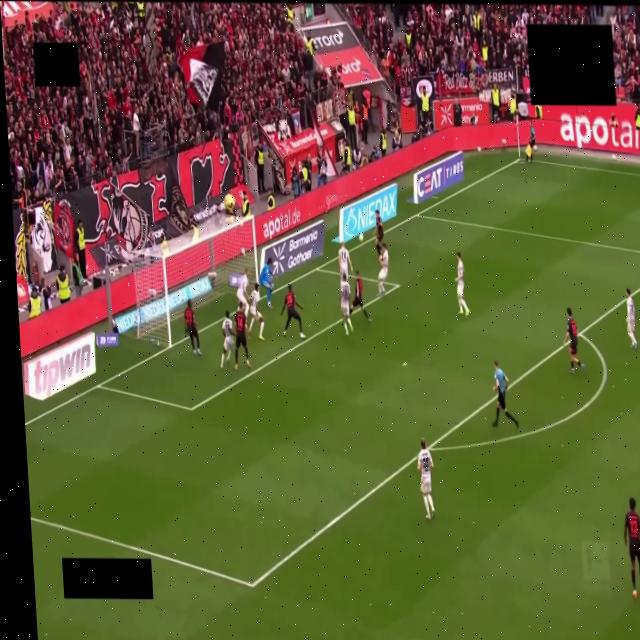ball: (359, 234, 363, 242)
player: (624, 497, 639, 597), (563, 308, 585, 372), (417, 439, 434, 519), (281, 284, 305, 338), (350, 271, 370, 322), (235, 303, 250, 370), (455, 252, 469, 315), (184, 300, 200, 355), (258, 258, 275, 309), (249, 284, 264, 340), (340, 272, 352, 334), (221, 312, 234, 368), (626, 289, 637, 350), (237, 270, 249, 316), (378, 243, 388, 296), (338, 242, 352, 279), (375, 211, 384, 256)
referee: (493, 362, 518, 428)
